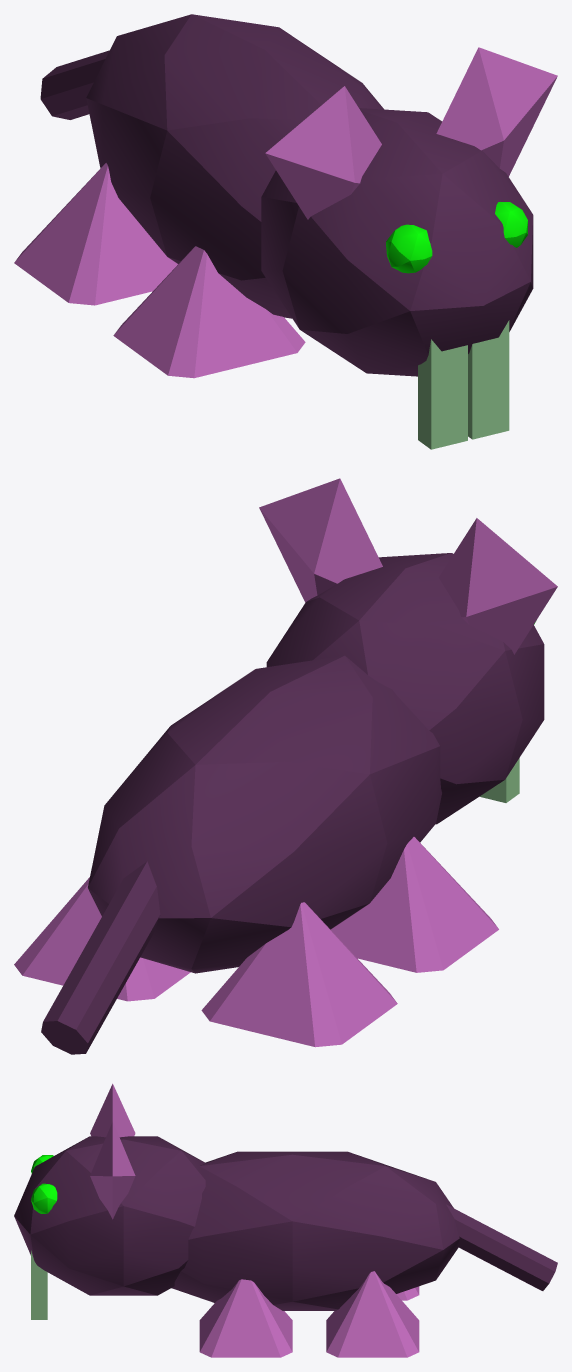
The model's file is SPACE_RATS.fbx.
The picture shows the model from 3 angles, top to bottom: view 1: azimuth 30°, elevation 25°; view 2: azimuth 150°, elevation 25°; view 3: azimuth 270°, elevation 25°; orthographic projection. The views are drawn at different scales.
Visible parts, largest first — view 1: icosphere (×4), pyramid_bevel (×2), diamond (×2), block (×2), cylinderVertex; view 2: icosphere (×2), pyramid_bevel (×3), diamond (×2), cylinderVertex, block; view 3: icosphere (×3), pyramid_bevel (×2), diamond (×2), cylinderVertex, block.
Part boxes in pixels (<box>): icosphere (×4): <box>86,14,533,376</box>; pyramid_bevel (×2): <box>14,163,305,378</box>; diamond (×2): <box>265,47,557,219</box>; block (×2): <box>418,320,509,449</box>; cylinderVertex: <box>40,50,109,119</box>; icosphere (×2): <box>88,553,544,973</box>; pyramid_bevel (×3): <box>14,837,498,1047</box>; diamond (×2): <box>259,478,557,654</box>; cylinderVertex: <box>41,861,160,1054</box>; block: <box>479,758,519,802</box>; icosphere (×3): <box>14,1136,459,1310</box>; pyramid_bevel (×2): <box>199,1271,419,1357</box>; diamond (×2): <box>90,1083,135,1219</box>; cylinderVertex: <box>446,1204,557,1290</box>; block: <box>31,1250,47,1319</box>.
Bounding box in the file's own units: 14 × 13.67 × 32.22.
